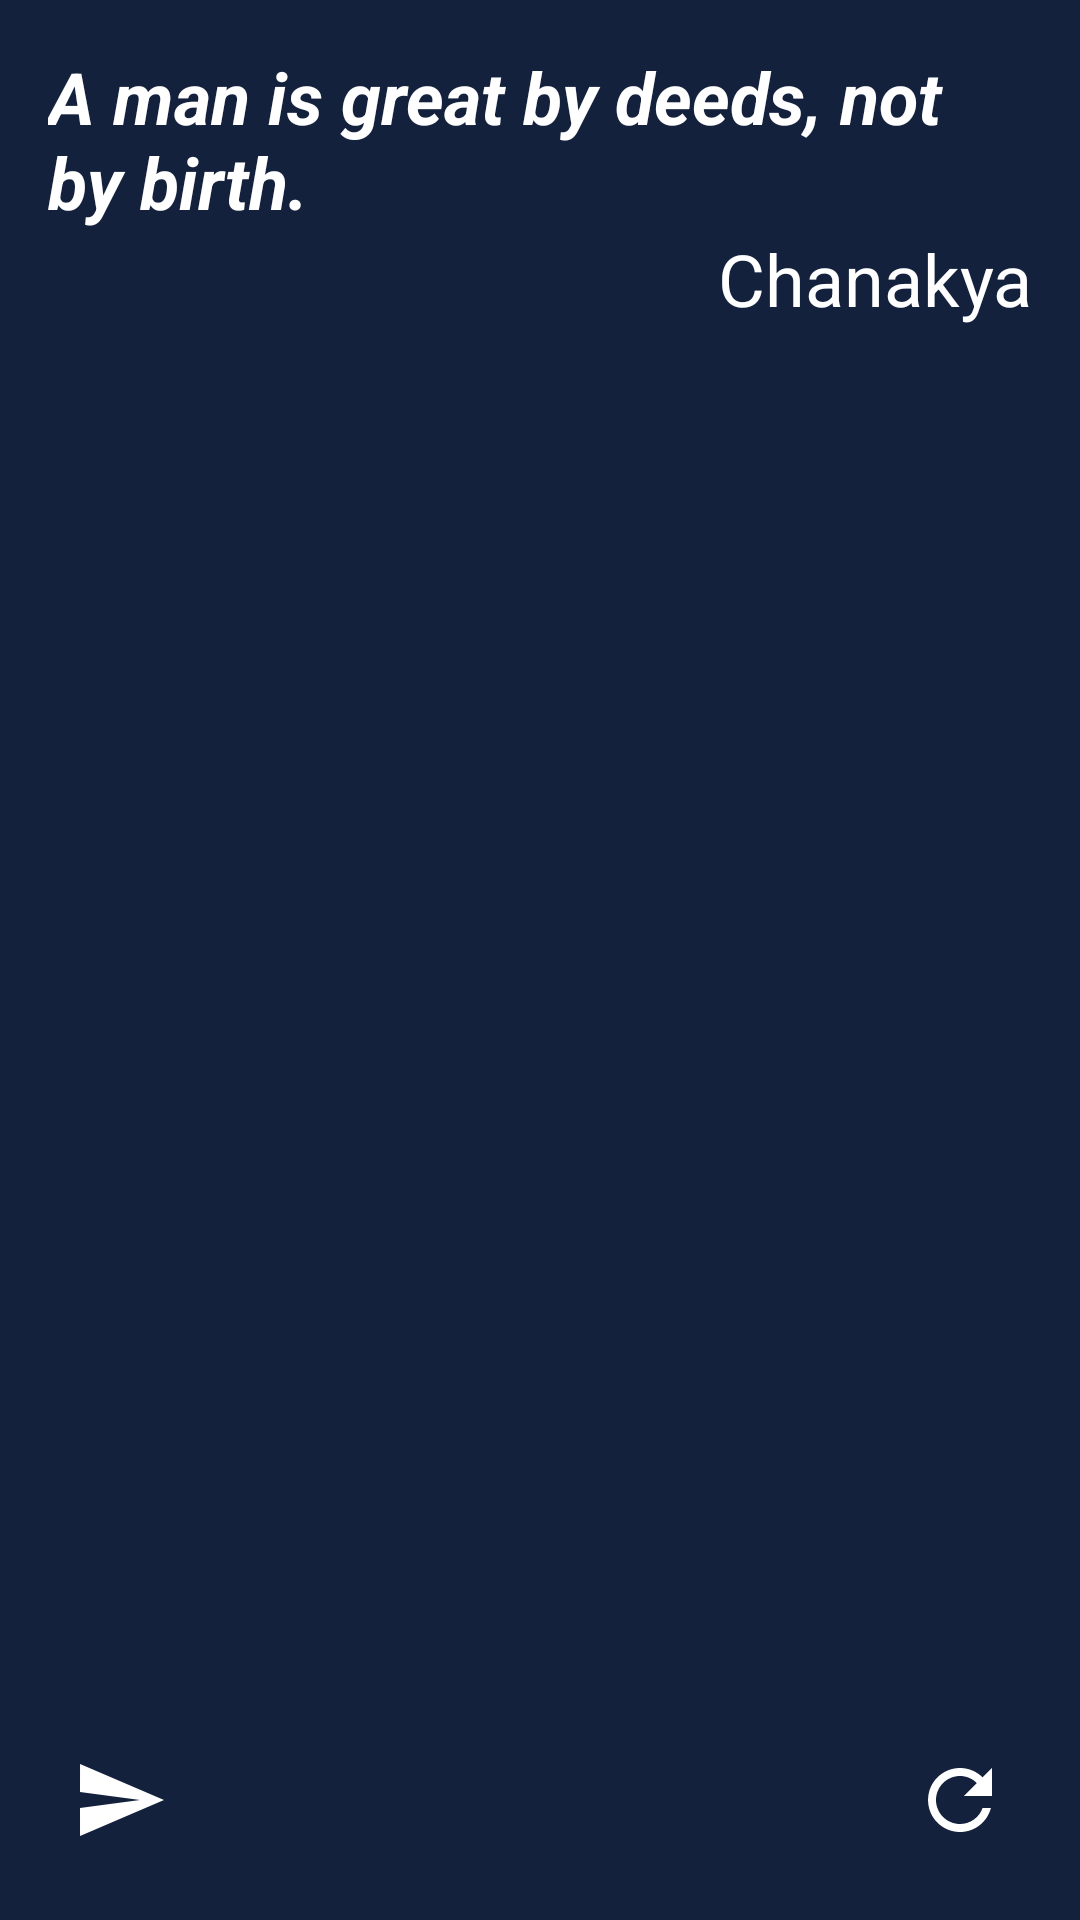

Named icons in this screenshot (1080×1920) and their bounding boxes, (x1, y1, x2, y2):
New Quote: (928, 1768, 992, 1832)
Share: (80, 1764, 164, 1836)
